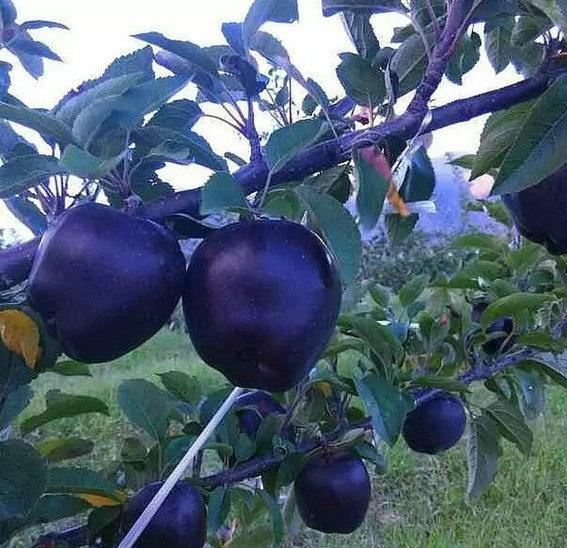apple: (181, 218, 343, 392), (26, 203, 185, 363), (293, 448, 370, 534), (119, 482, 205, 543), (403, 390, 465, 454)
